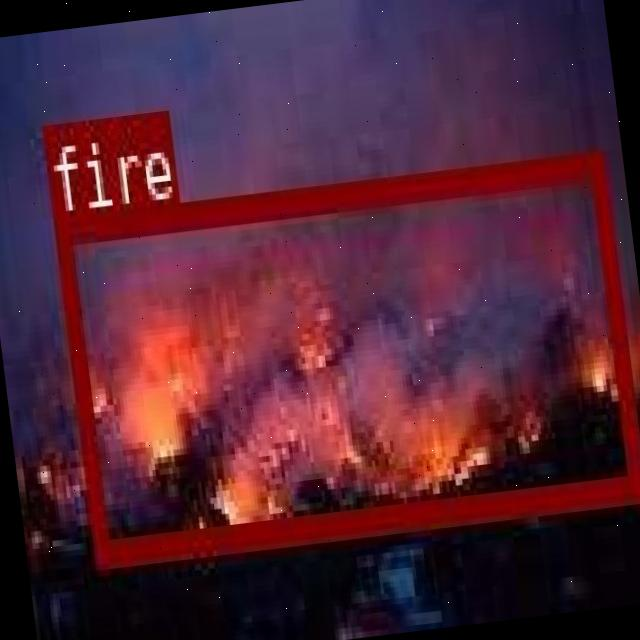fire: (50, 146, 640, 560)
